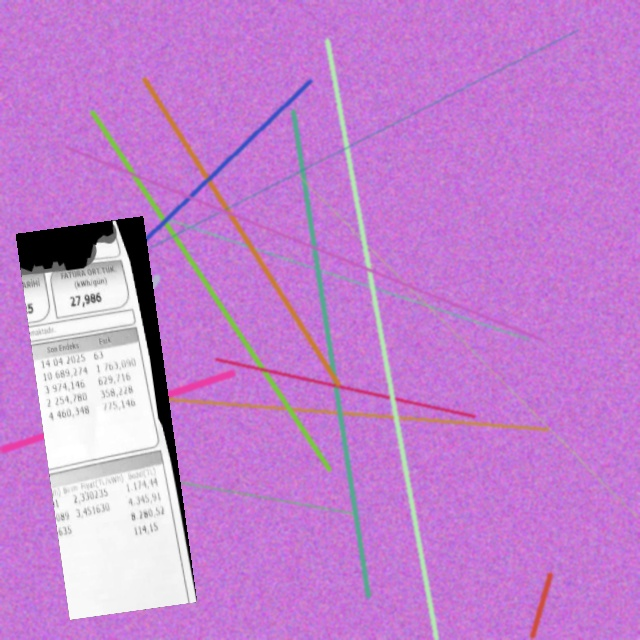electricity-bill: (15, 216, 197, 620)
